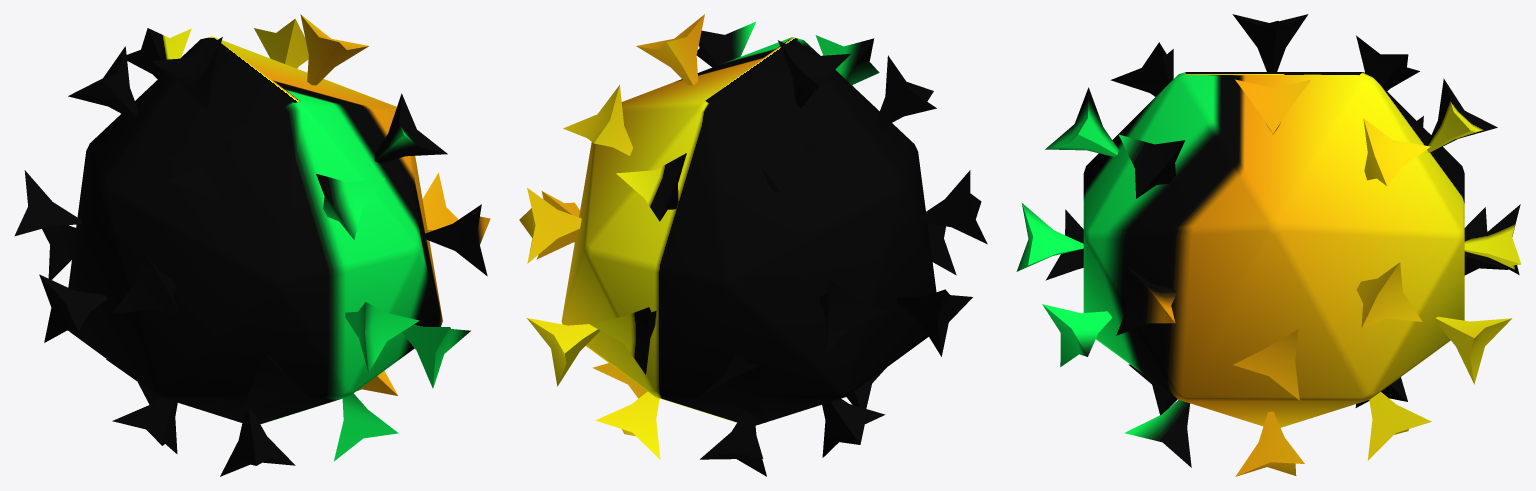
Rendered from VirusDengue.FBX.
3 views of the same model, side by side, from view 1: azimuth 30°, elevation 25°; view 2: azimuth 150°, elevation 25°; view 3: azimuth 270°, elevation 25° (orthographic).
Parts seen in each view (by area): view 1: VirusDengue; view 2: VirusDengue; view 3: VirusDengue.
Part boxes in pixels (x1,y1,x2,y2): VirusDengue: [14, 14, 490, 476]; VirusDengue: [519, 14, 987, 476]; VirusDengue: [1016, 14, 1521, 476].
Size of the model in its own units: 24.13 by 23.13 by 26.01.
1 material, 1 textured.
